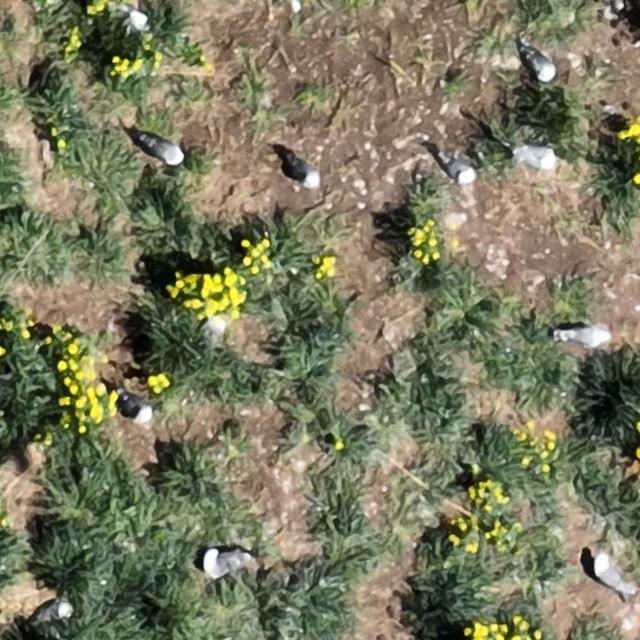umineko: (202, 315, 236, 349), (595, 560, 630, 592), (204, 550, 247, 575), (144, 139, 184, 165), (118, 392, 152, 422), (288, 156, 320, 187), (527, 48, 557, 81), (564, 326, 610, 347), (442, 155, 474, 183), (518, 148, 557, 169), (35, 602, 72, 622), (122, 9, 148, 32)
